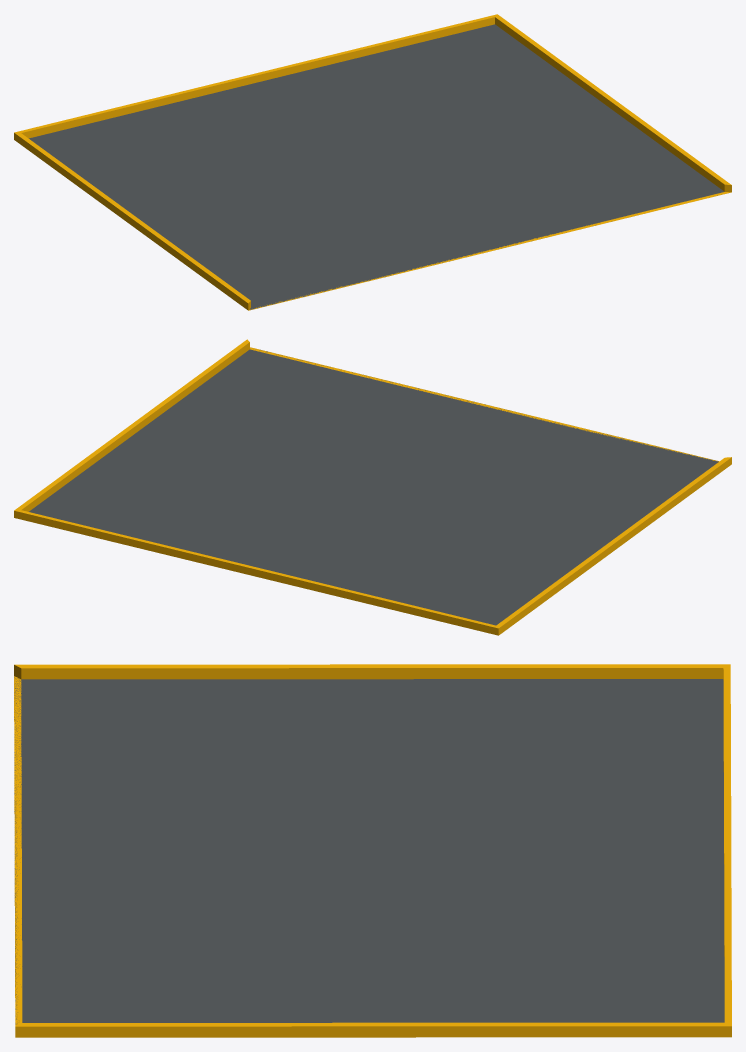
Rendered from LEG.fbx.
3 views of the same model, one above another, from view 1: azimuth 30°, elevation 25°; view 2: azimuth 150°, elevation 25°; view 3: azimuth 270°, elevation 25° (orthographic). The views are drawn at different scales.
Visible parts, largest first — view 1: Gas station.003; view 2: Gas station.003; view 3: Gas station.003.
Boxes of the visible parts, x1,y1,x2,y2 form: Gas station.003: (14,14,731,310); Gas station.003: (14,339,731,635); Gas station.003: (14,664,731,1037).
Bounding box in the file's own units: 4377 × 62.4 × 3665.
